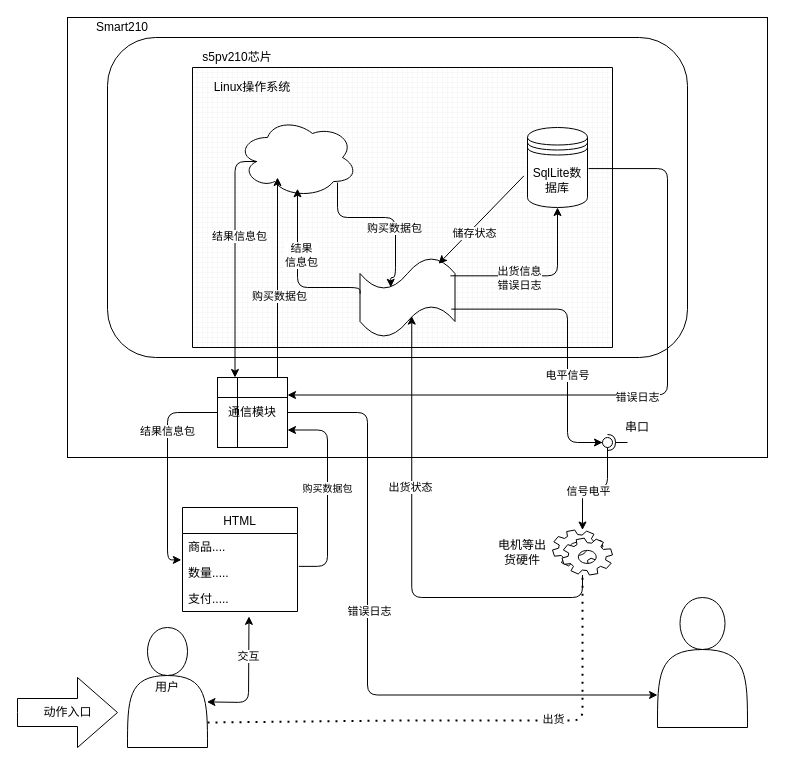
Some shapes in this 785 by 765 pixel diagram are drawn without their labels. Here are the shapes that lost their labels. From the top down, the centre of each, then its label:
the point at 297,157: Boa服务器
the point at 407,297: 程序
the point at 702,662: 管理员
